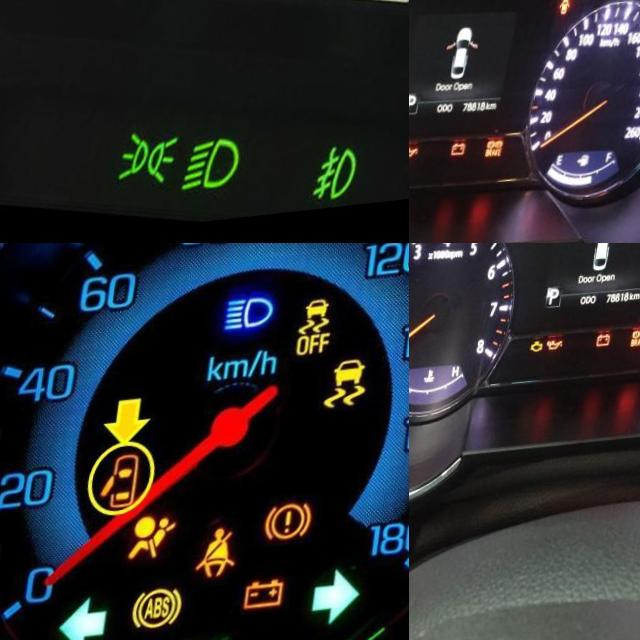Doors: (561, 7, 575, 25)
FrontFogLight: (327, 149, 379, 214)
Low beam: (195, 135, 263, 208)
SideLamp: (128, 131, 197, 196)
